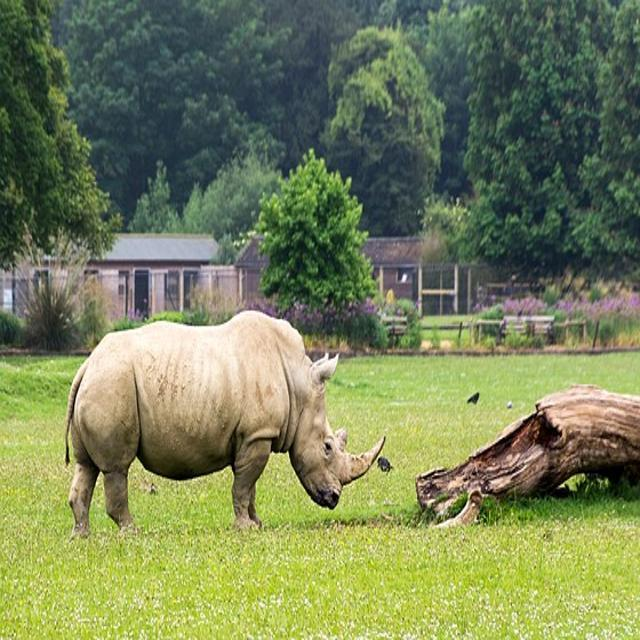Rinoceros: (53, 296, 393, 570)
